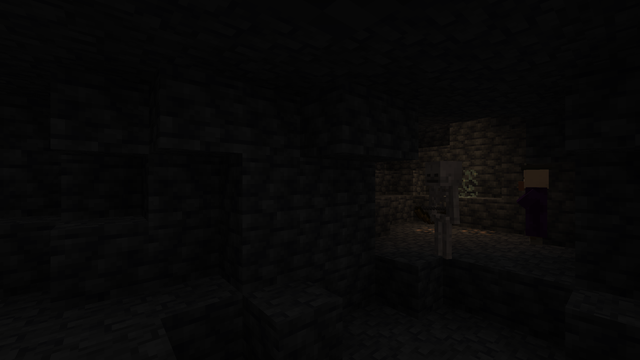sorcieres: (518, 166, 553, 246)
squelettes: (422, 161, 463, 262)
